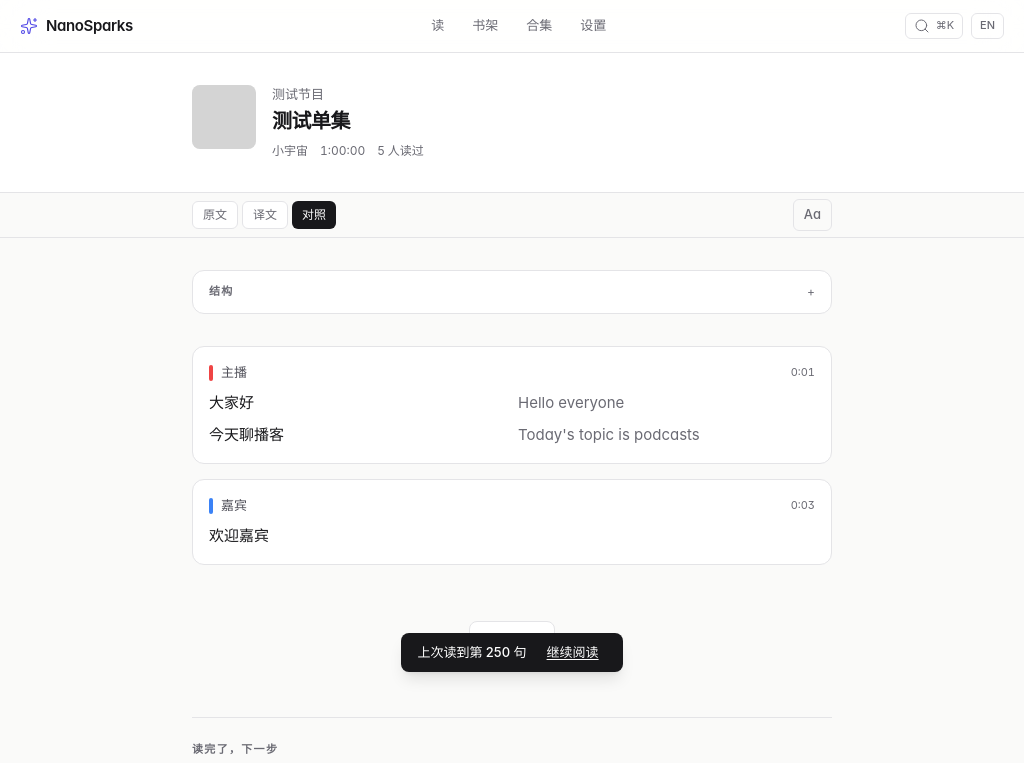
Test: ReaderShell › reports a missing saved reading position after exhausting pages without focusing another turn
This screenshot has width=1024, height=763.
Click the button "继续阅读" at (573, 652), box [539, 640, 607, 664]
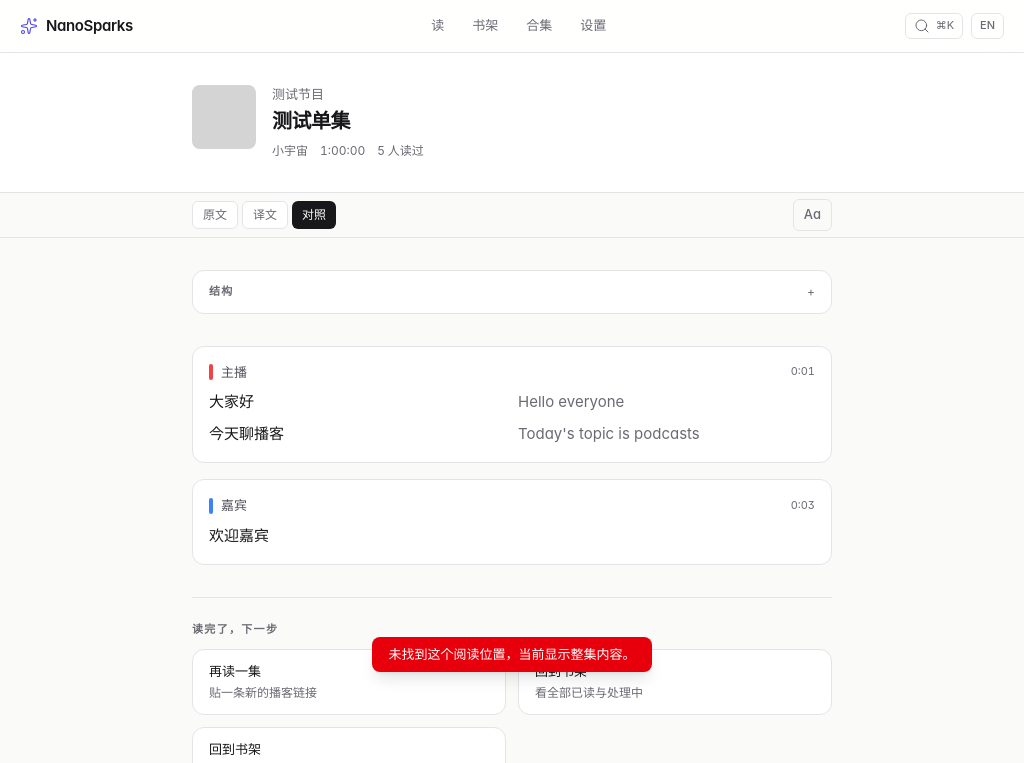
expect the text "未找到这个阅读位置，当前显示整集内容。" is shown: met, box [388, 644, 636, 664]
